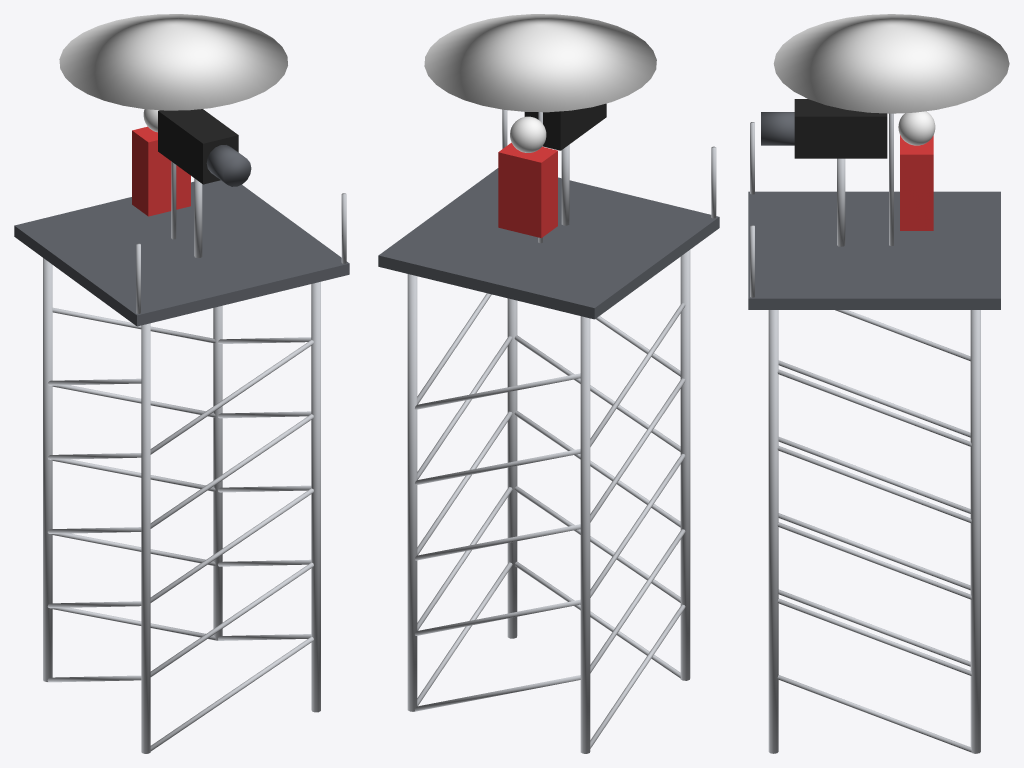
The model's file is camera.glb.
The picture shows the model from 3 angles, left to right: view 1: azimuth 30°, elevation 25°; view 2: azimuth 150°, elevation 25°; view 3: azimuth 270°, elevation 25°; orthographic projection. The views are drawn at different scales.
Parts seen in each view (by area): view 1: Box.058, Cone, Rod.050, Rod.051, Rod.053, Box.059, Box.060, Rod.052, Cyl, Rod.054, Rod.058, Rod.066 (+8 smaller); view 2: Box.058, Cone, Box.060, Rod.053, Rod.052, Rod.050, Rod.051, Box.059, Sphere, Rod.054, Rod.058, Rod.066 (+17 smaller); view 3: Box.058, Cone, Box.059, Rod.051, Rod.052, Box.060, Cyl, Rod.065, Rod.069, Rod.057, Rod.061, Rod.073 (+8 smaller).
Boxes of the visible parts, x1,y1,x2,y2 form: Box.058: [14, 180, 349, 326]; Cone: [59, 14, 287, 110]; Rod.050: [141, 323, 150, 753]; Rod.051: [311, 281, 320, 712]; Rod.053: [43, 258, 52, 681]; Box.059: [158, 109, 238, 184]; Box.060: [132, 126, 190, 216]; Rod.052: [213, 305, 222, 640]; Cyl: [206, 145, 251, 186]; Rod.054: [150, 636, 313, 751]; Rod.058: [150, 562, 313, 676]; Rod.066: [150, 414, 313, 528]; Box.058: [378, 168, 719, 319]; Cone: [424, 14, 656, 112]; Box.060: [498, 142, 557, 237]; Rod.053: [580, 316, 590, 753]; Rod.052: [407, 274, 417, 711]; Rod.050: [680, 250, 690, 680]; Rod.051: [507, 298, 517, 638]; Box.059: [524, 103, 606, 150]; Sphere: [510, 116, 546, 152]; Rod.054: [514, 561, 680, 678]; Rod.058: [514, 486, 680, 602]; Rod.066: [514, 335, 680, 451]; Box.058: [748, 191, 1000, 309]; Cone: [773, 14, 1009, 113]; Box.059: [794, 99, 887, 158]; Rod.051: [768, 310, 778, 753]; Rod.052: [970, 310, 980, 753]; Box.060: [900, 135, 933, 230]; Cyl: [761, 112, 794, 145]; Rod.065: [777, 522, 971, 599]; Rod.069: [777, 446, 971, 523]; Rod.057: [777, 675, 971, 752]; Rod.061: [777, 598, 971, 675]; Rod.073: [777, 369, 971, 446].
Bounding box in the file's own units: 3 × 8.98 × 3.1.
